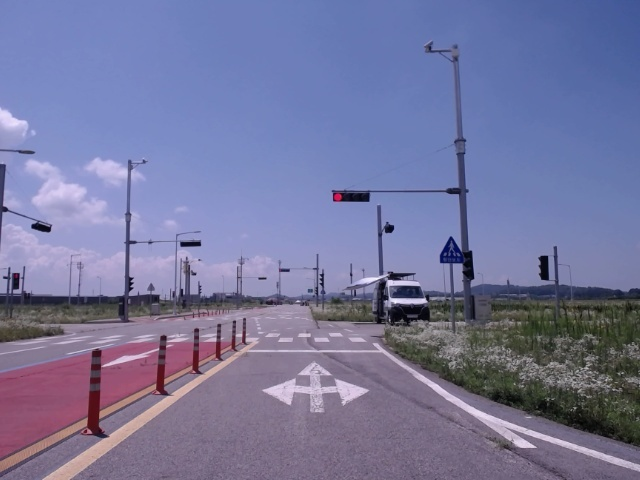red_4: (332, 192, 371, 203)
